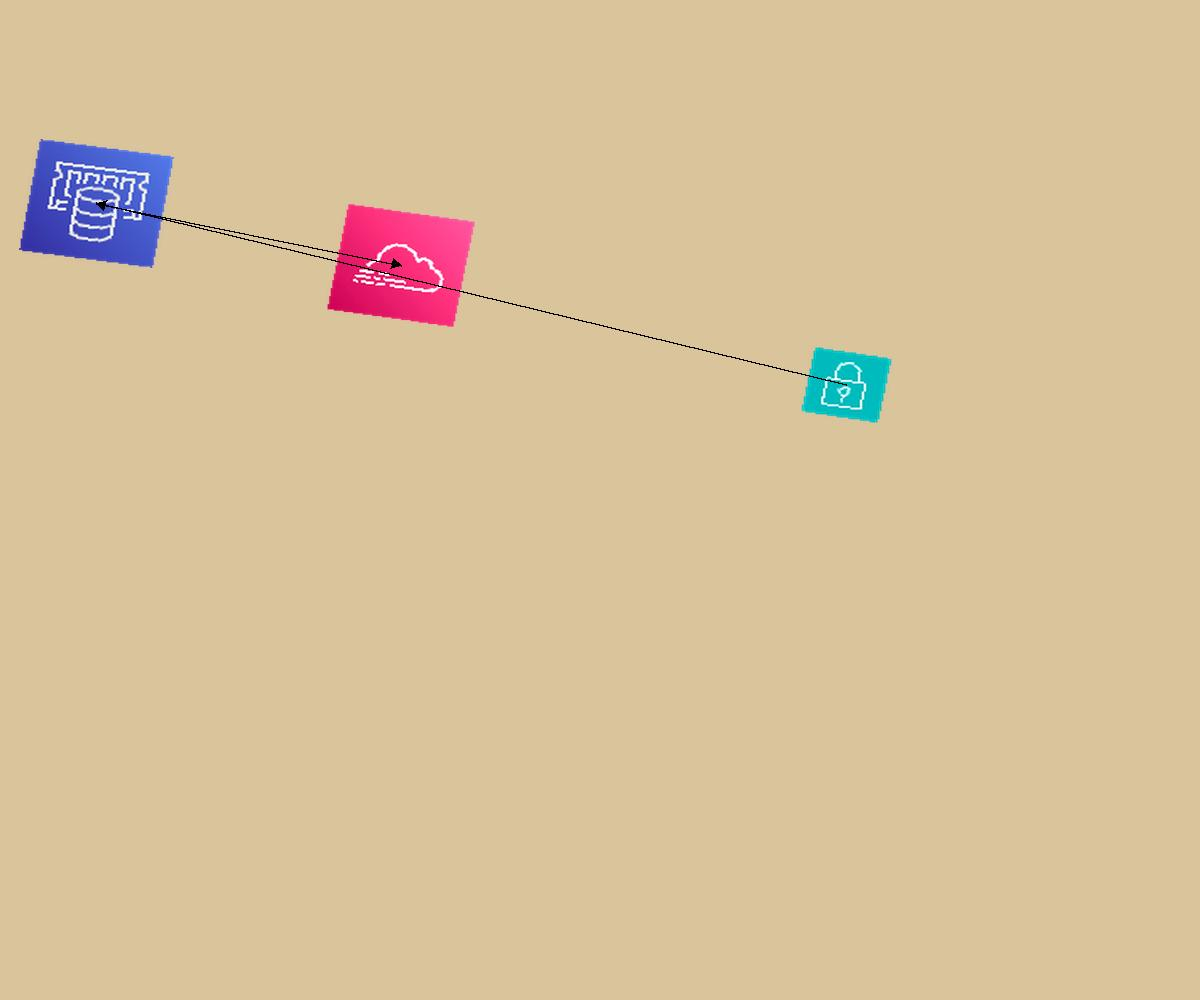AWS-CloudTrail: (326, 203, 476, 328)
AWS-ElastiCache: (19, 139, 174, 268)
AWS-Private-subnet: (800, 346, 893, 424)
